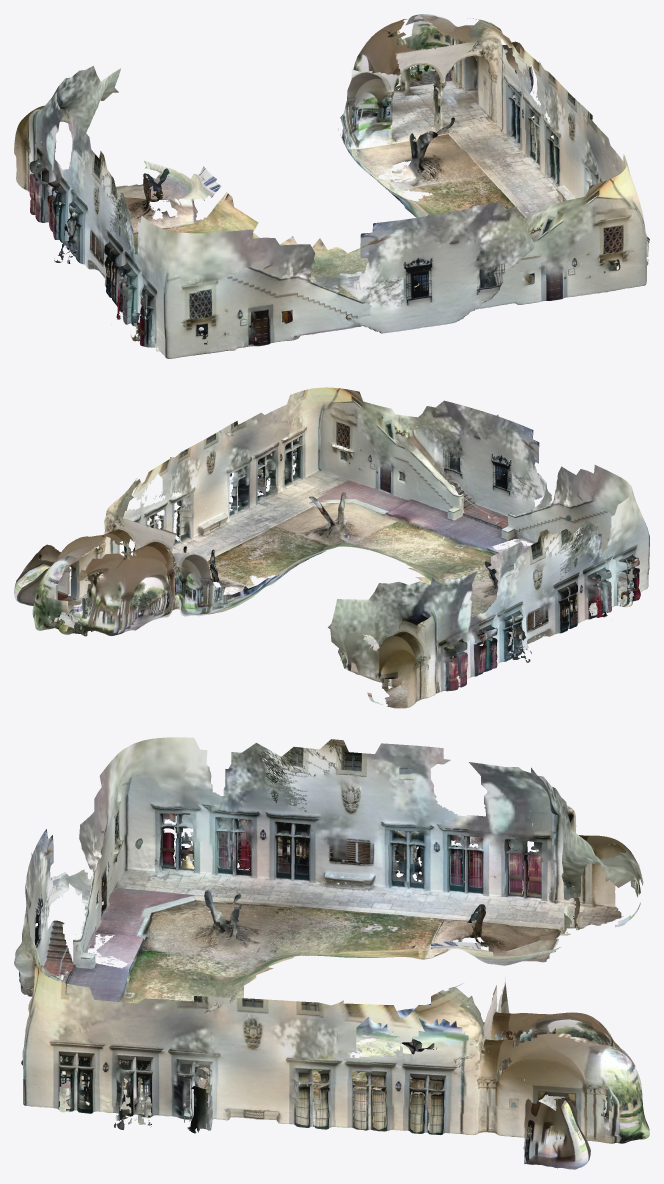
Rendered from olive-2.glb.
3 renders of one model, top to bottom at view 1: azimuth 30°, elevation 25°; view 2: azimuth 150°, elevation 25°; view 3: azimuth 270°, elevation 25°, orthographic. The views are drawn at different scales.
Parts seen in each view (by area): view 1: Object_2, Object_8, Object_7, Object_6, Object_5, Object_4, Object_9; view 2: Object_2, Object_8, Object_7, Object_5, Object_6, Object_4, Object_9; view 3: Object_2, Object_5, Object_7, Object_8, Object_4, Object_6, Object_9.
Boxes of the visible parts, x1,y1,x2,y2 form: Object_2: [16, 14, 647, 358]; Object_8: [19, 16, 632, 348]; Object_7: [14, 47, 638, 335]; Object_6: [41, 30, 593, 346]; Object_5: [31, 19, 626, 347]; Object_4: [49, 15, 649, 326]; Object_9: [14, 15, 648, 350]; Object_2: [16, 404, 649, 708]; Object_8: [30, 400, 639, 705]; Object_7: [54, 387, 628, 691]; Object_5: [14, 429, 607, 688]; Object_6: [20, 402, 640, 696]; Object_4: [31, 391, 611, 686]; Object_9: [26, 405, 640, 704]; Object_2: [21, 737, 644, 1169]; Object_5: [19, 739, 641, 1165]; Object_7: [21, 746, 636, 1169]; Object_8: [16, 743, 643, 1124]; Object_4: [35, 839, 649, 1139]; Object_6: [14, 749, 647, 1149]; Object_9: [32, 775, 648, 1142].
Bounding box in the file's own units: 34.81 × 7.94 × 30.39.
Materials: 9 (9 with a texture image).
